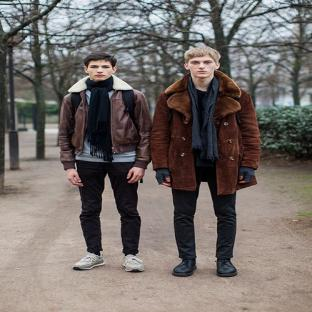Human: (59, 47, 259, 276)
